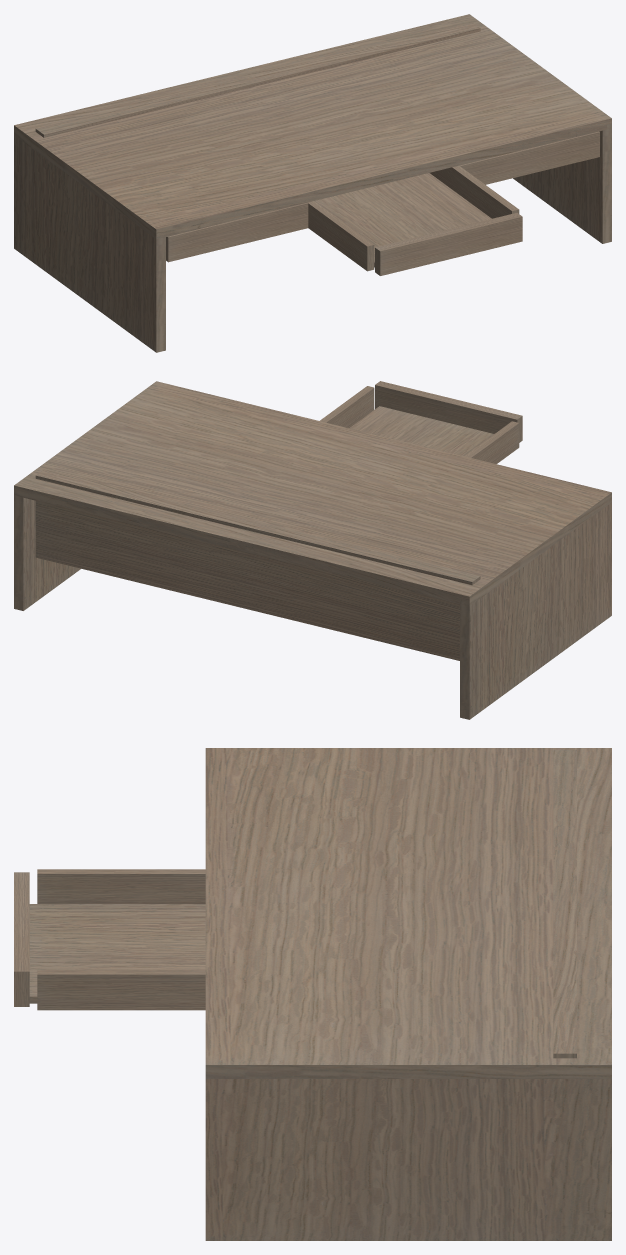
Rendered from deskWood3.glb.
3 renders of one model, top to bottom at view 1: azimuth 30°, elevation 25°; view 2: azimuth 150°, elevation 25°; view 3: azimuth 270°, elevation 25°, orthographic. The views are drawn at different scales.
Visible parts, largest first — view 1: Cube_0, Cube.002, drawer, Cube.003, Cube.001_0, Cube.004, Cube.005_0; view 2: Cube_0, Cube.003, Cube.002, drawer, Cube.001_0; view 3: Cube_0, Cube.001_0, drawer, Cube.003.
Part boxes in pixels (bbox=[...]): Cube_0: bbox=[14, 14, 611, 239]; Cube.002: bbox=[14, 135, 165, 352]; drawer: bbox=[308, 166, 522, 275]; Cube.003: bbox=[35, 22, 480, 137]; Cube.001_0: bbox=[513, 123, 611, 243]; Cube.004: bbox=[166, 202, 310, 262]; Cube.005_0: bbox=[457, 131, 599, 184]; Cube_0: bbox=[14, 381, 611, 606]; Cube.003: bbox=[35, 469, 480, 660]; Cube.002: bbox=[460, 502, 611, 719]; drawer: bbox=[320, 381, 522, 463]; Cube.001_0: bbox=[14, 495, 80, 610]; Cube_0: bbox=[205, 748, 611, 1078]; Cube.001_0: bbox=[205, 1072, 611, 1240]; drawer: bbox=[14, 869, 205, 1010]; Cube.003: bbox=[553, 750, 576, 1058].
Size of the model in its own units: 1.31 by 0.3477 by 1.04.
Materials: 1 (1 with a texture image).
